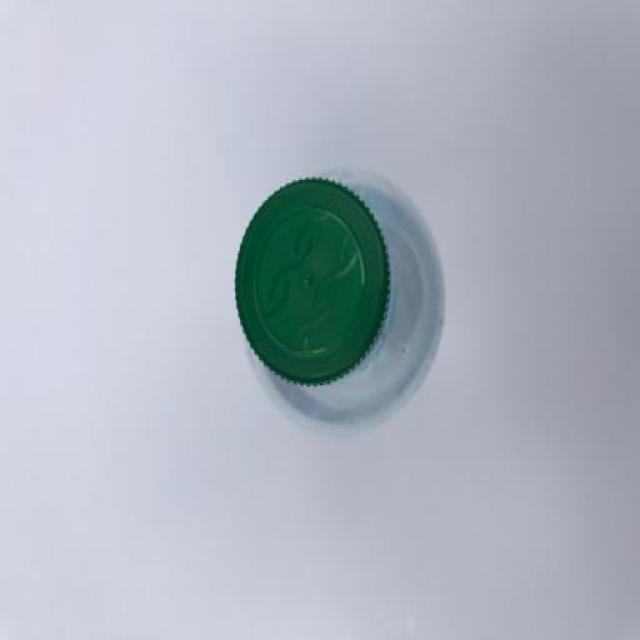plastic_bottle: (192, 122, 496, 458)
